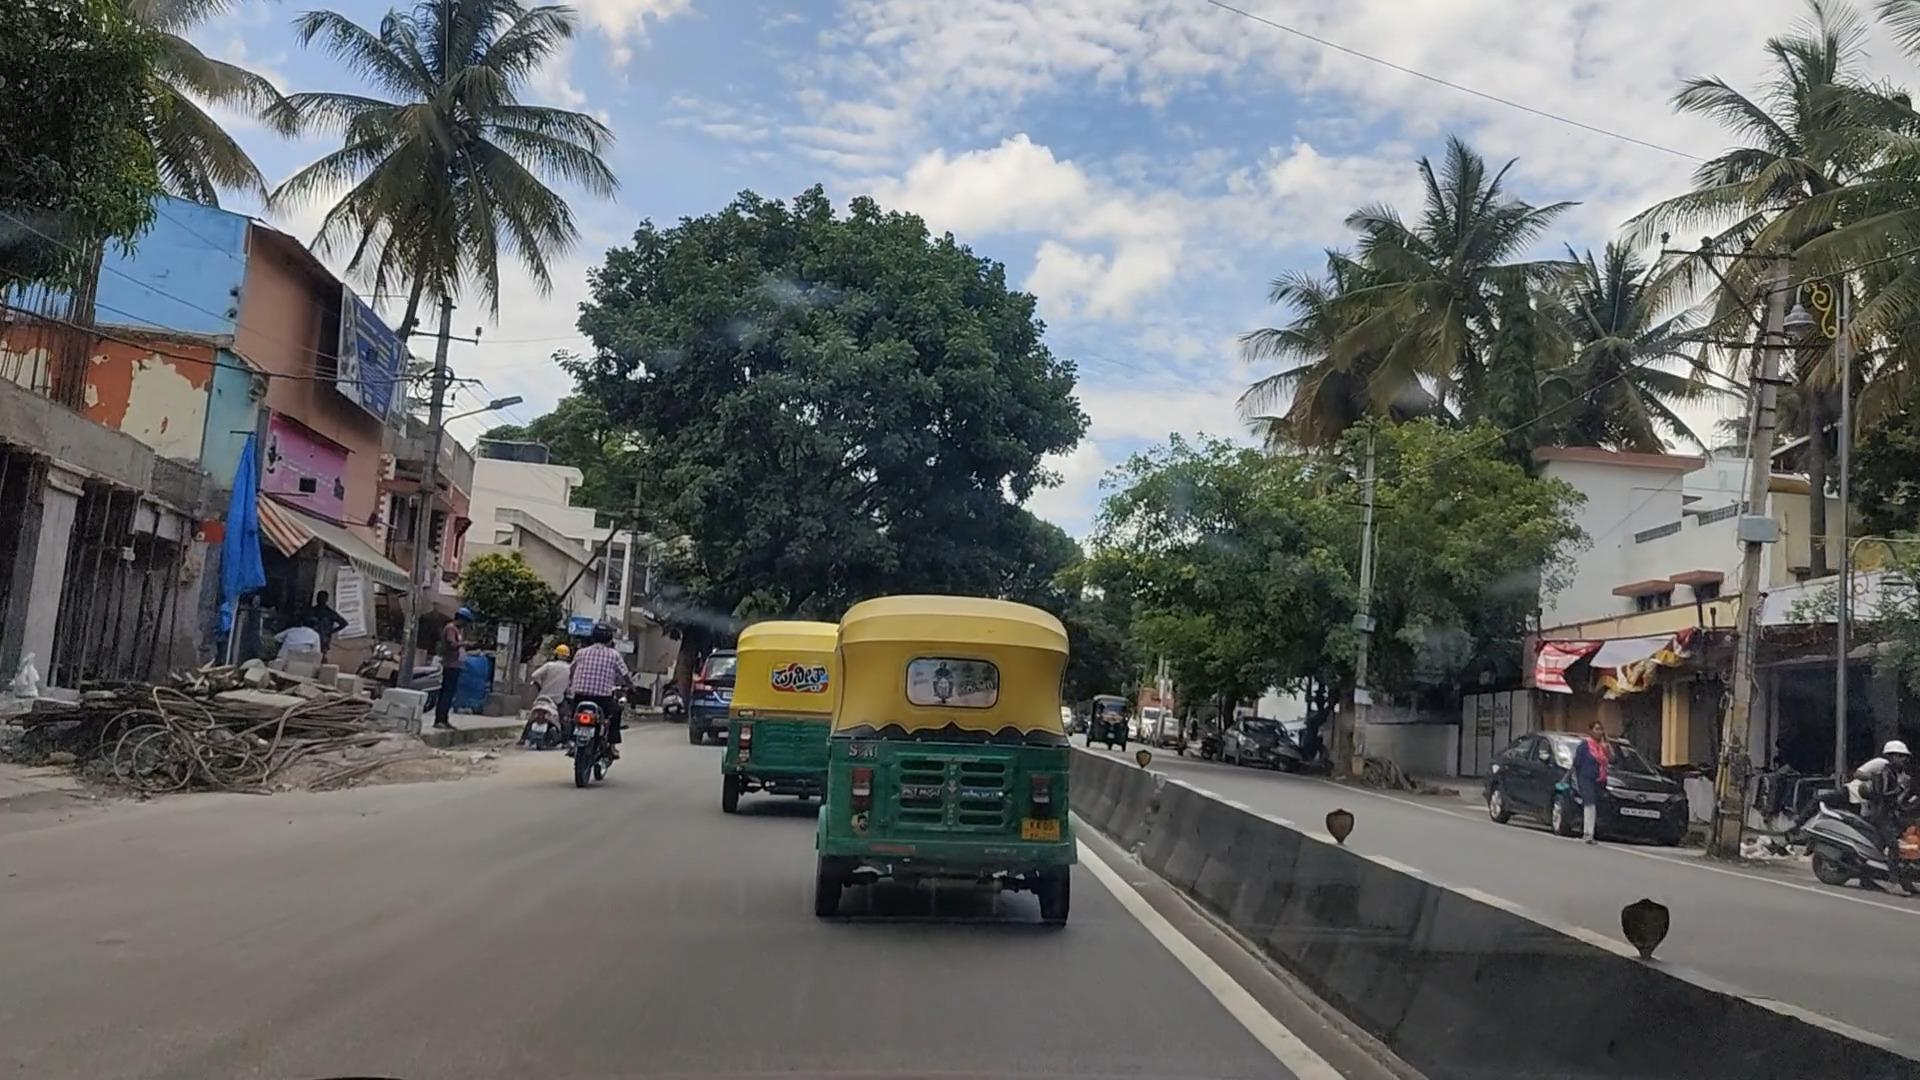LMV: (822, 613, 1080, 926), (708, 620, 843, 812), (553, 628, 655, 794)
